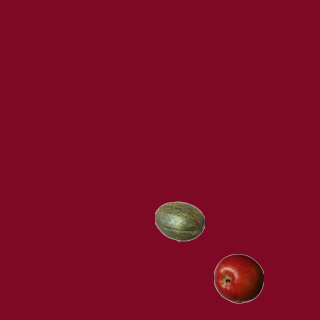Apple Braeburn: (213, 253, 263, 303)
Melon Piel de Sapo: (154, 196, 204, 246)
